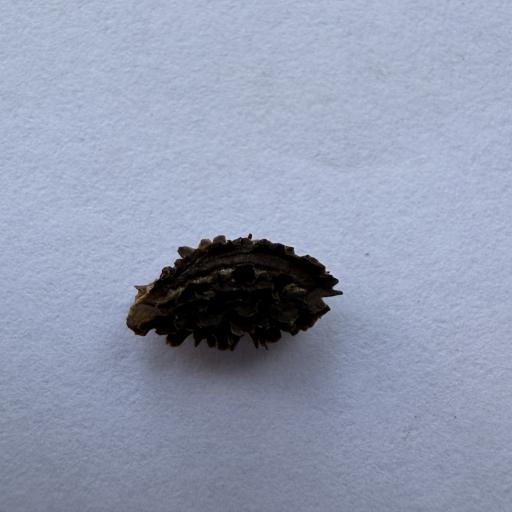papaya_seed: (122, 206, 359, 385)
